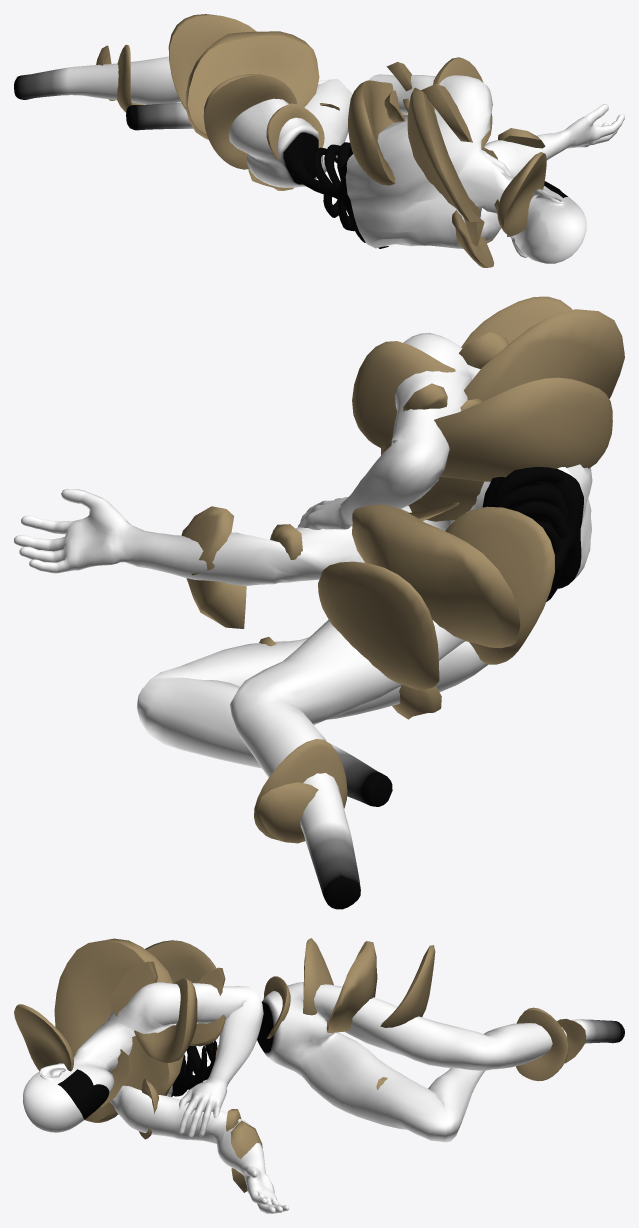
File: Model_DeadEnnemy01.fbx
3 renders of one model, top to bottom at view 1: azimuth 30°, elevation 25°; view 2: azimuth 150°, elevation 25°; view 3: azimuth 270°, elevation 25°, orthographic. The views are drawn at different scales.
Visible parts, largest first — view 1: BodyDead01, MushDead01; view 2: MushDead01, BodyDead01; view 3: BodyDead01, MushDead01.
Part boxes in pixels (x1,y1,x2,y2): BodyDead01: [14, 56, 624, 263]; MushDead01: [96, 14, 546, 267]; MushDead01: [181, 296, 624, 843]; BodyDead01: [14, 332, 592, 909]; BodyDead01: [23, 982, 624, 1213]; MushDead01: [14, 938, 586, 1192].
Bounding box in the file's own units: 179 × 80.29 × 249.
